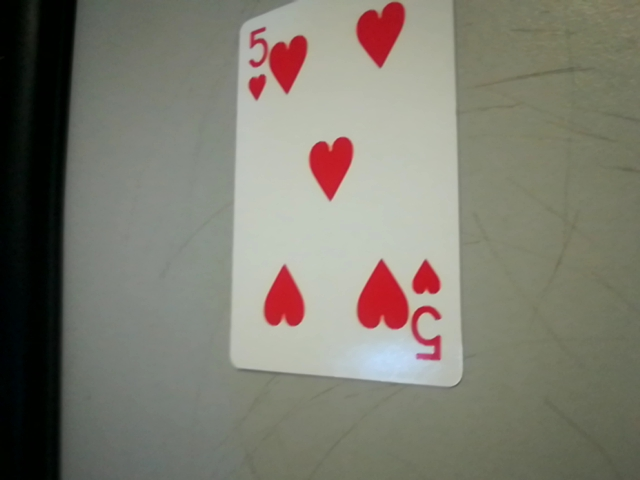hx 5: (408, 253, 458, 375)
